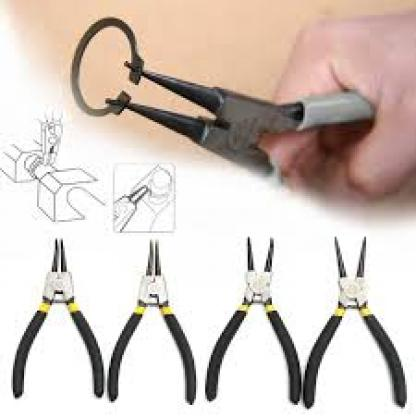Pliers: (303, 236, 407, 408), (206, 235, 302, 405), (13, 238, 104, 400), (108, 238, 196, 404)
